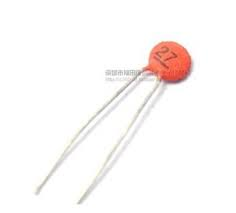ceramic capacitor: (108, 28, 217, 131)
